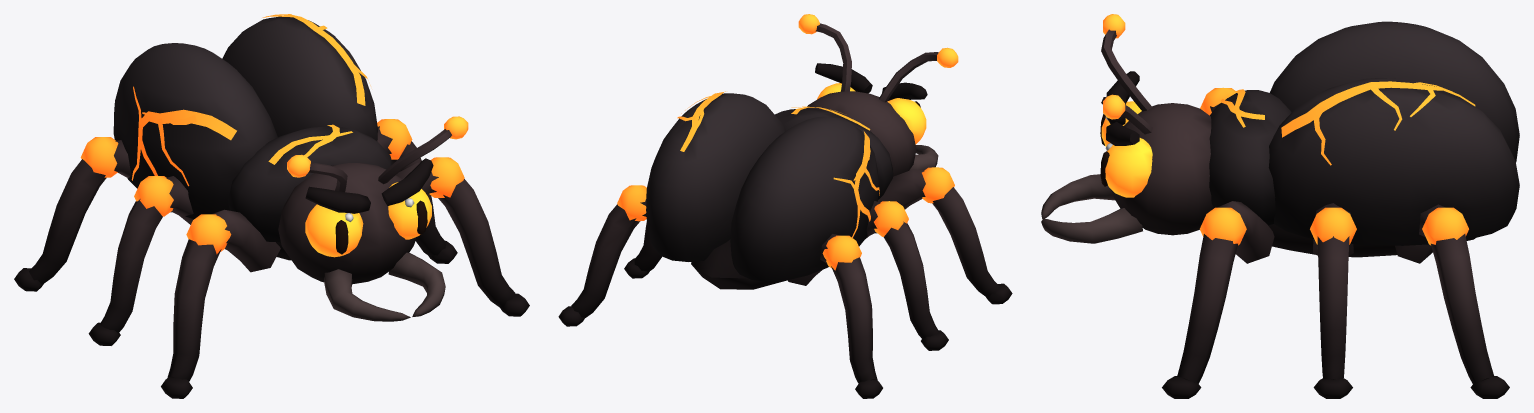
Rendered from bug_volcano.glb.
3 views of the same model, side by side, from view 1: azimuth 30°, elevation 25°; view 2: azimuth 150°, elevation 25°; view 3: azimuth 270°, elevation 25° (orthographic). The views are drawn at different scales.
Parts seen in each view (by area): view 1: body, leg_R1, leg_R2, leg_L1, leg_R3, eye_R, leg_L2, eye_L; view 2: body, leg_R1, leg_R3, leg_R2, leg_L3, eye_R, leg_L2; view 3: body, leg_L1, leg_L3, leg_L2, eye_L, leg_R1.
Boxes of the visible parts, <box> form: body: <box>113,14,468,321</box>; leg_R1: <box>161,209,280,398</box>; leg_R2: <box>88,176,193,345</box>; leg_L1: <box>396,157,529,316</box>; leg_R3: <box>14,137,171,291</box>; eye_R: <box>305,204,363,257</box>; leg_L2: <box>377,119,457,263</box>; eye_L: <box>388,182,431,239</box>; body: <box>646,14,958,289</box>; leg_R1: <box>875,167,1012,304</box>; leg_R3: <box>787,234,882,398</box>; leg_R2: <box>865,201,948,350</box>; leg_L3: <box>558,185,646,326</box>; eye_R: <box>887,98,926,144</box>; leg_L2: <box>624,221,661,278</box>; body: <box>1041,14,1519,257</box>; leg_L1: <box>1162,201,1274,398</box>; leg_L3: <box>1395,204,1509,398</box>; leg_L2: <box>1310,203,1356,398</box>; eye_L: <box>1100,138,1152,197</box>; leg_R1: <box>1200,87,1236,115</box>.
Size of the model in its own units: 0.9249 by 0.6036 by 1.01.
